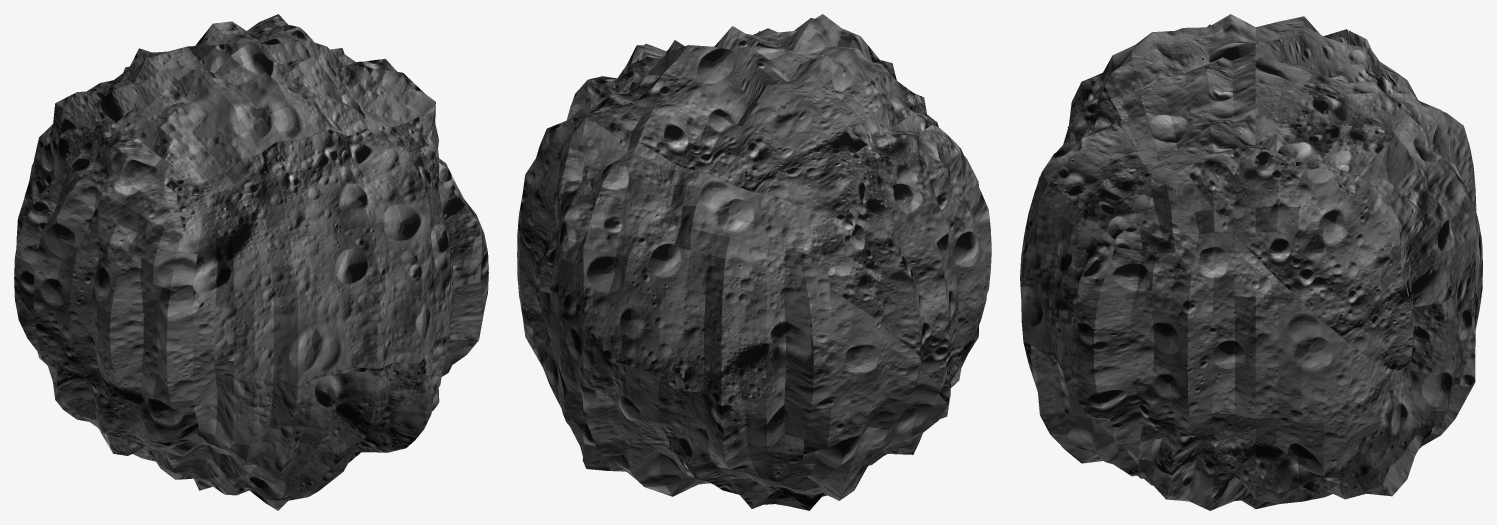
File: asteroid179.obj
3 renders of one model, left to right at view 1: azimuth 30°, elevation 25°; view 2: azimuth 150°, elevation 25°; view 3: azimuth 270°, elevation 25°, orthographic. The views are drawn at different scales.
Visible parts, largest first — view 1: Cube_Cube.002; view 2: Cube_Cube.002; view 3: Cube_Cube.002.
Part boxes in pixels (left/top/right/bottom): Cube_Cube.002: left=14, top=14, right=488, bottom=510; Cube_Cube.002: left=517, top=14, right=991, bottom=510; Cube_Cube.002: left=1020, top=14, right=1482, bottom=510.
Size of the model in its own units: 1.72 by 1.83 by 1.69.
